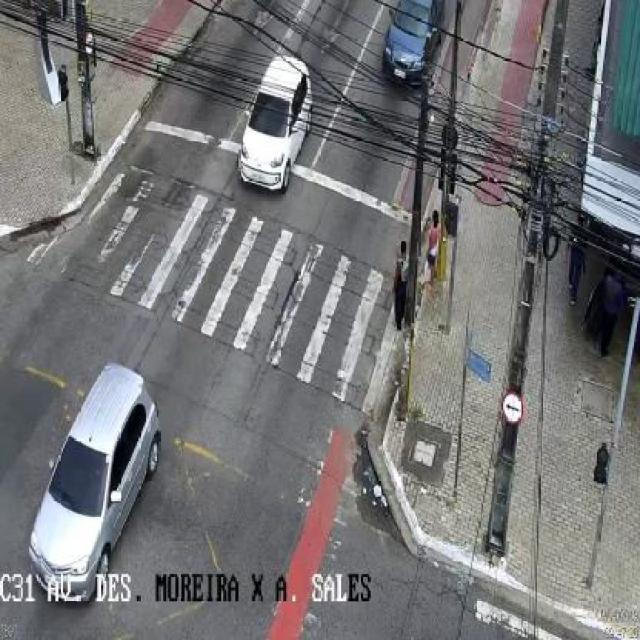Car: (29, 360, 158, 606), (238, 53, 310, 192)
